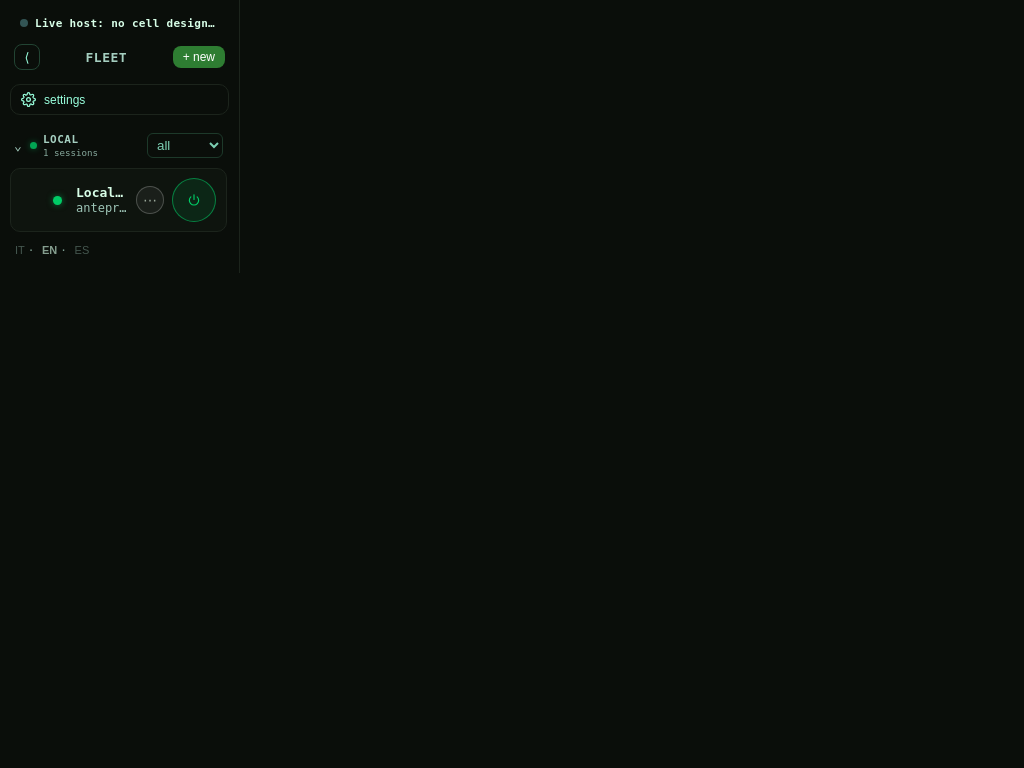
Test: Sidebar session identity › desktop: cliccare il PALLINO apre il popup E non aggiunge la tile (due asserzioni)
This screenshot has width=1024, height=768.
Step 1. Click the button with class "nc-dot" → (58, 200), box x1=47 y1=192 x2=68 y2=208
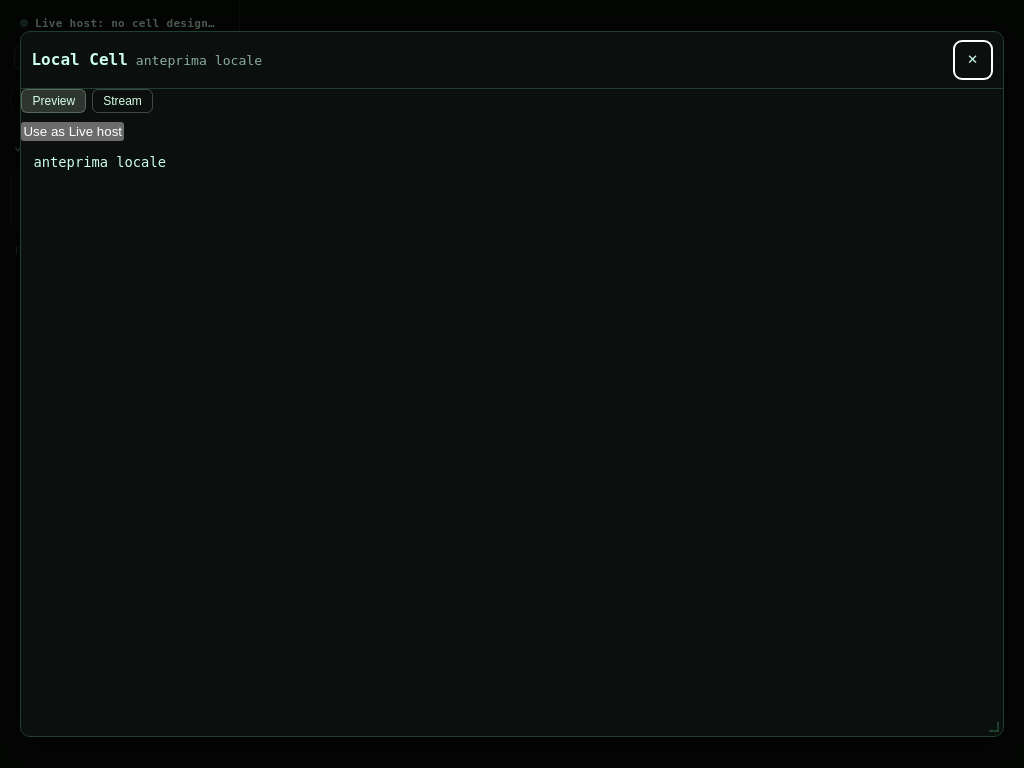
Expected: the dialog "Local Cell" is shown
Expected: the text with class "nc-peek-testo" reads "anteprima locale", x1=34 y1=154 x2=166 y2=170
